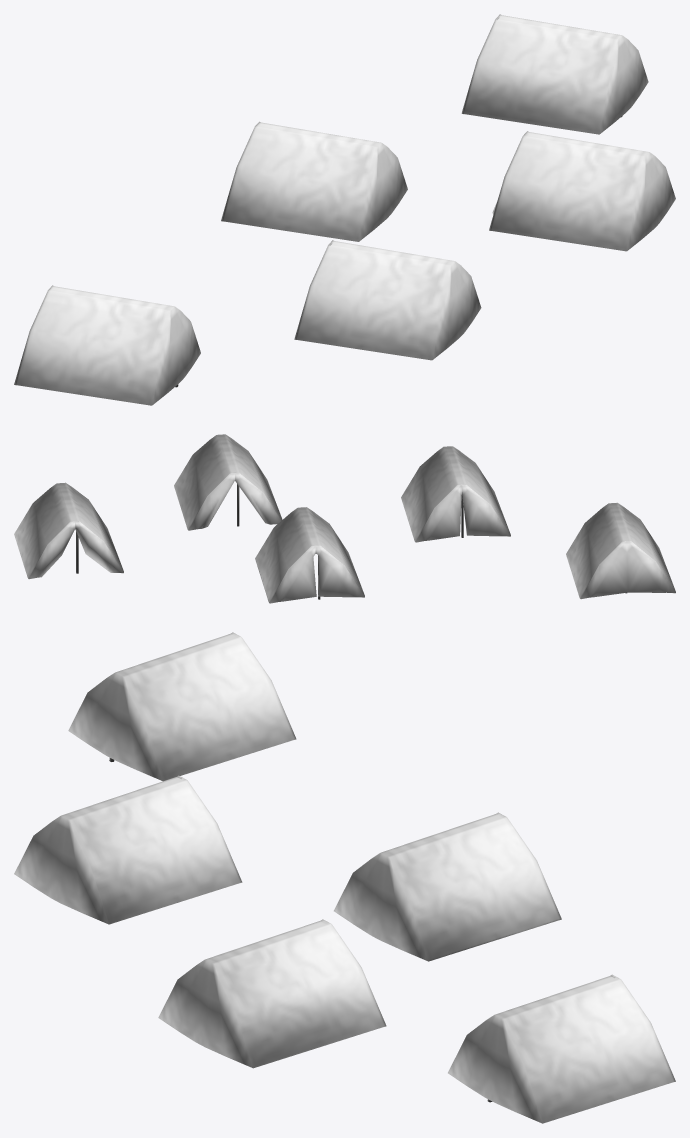
The model's file is Tents_White.obj.
3 renders of one model, top to bottom at view 1: azimuth 30°, elevation 25°; view 2: azimuth 150°, elevation 25°; view 3: azimuth 270°, elevation 25°, orthographic. The views are drawn at different scales.
Parts seen in each view (by area): view 1: Tent_Base.004_Material, Tent_Base.001_Material, Tent_Base.003_Material, Tent_Base_Material, Tent_Base.002_Material; view 2: Tent_Base.004_Material, Tent_Base.002_Material, Tent_Base.003_Material, Tent_Base_Material, Tent_Base.001_Material; view 3: Tent_Base.001_Material, Tent_Base_Material, Tent_Base.003_Material, Tent_Base.002_Material, Tent_Base.004_Material.
Boxes of the visible parts, x1=… form: Tent_Base.004_Material: x1=14, y1=285, x2=200, y2=405; Tent_Base.001_Material: x1=489, y1=131, x2=675, y2=251; Tent_Base.003_Material: x1=294, y1=240, x2=481, y2=360; Tent_Base_Material: x1=461, y1=14, x2=648, y2=134; Tent_Base.002_Material: x1=221, y1=121, x2=407, y2=241; Tent_Base.004_Material: x1=566, y1=502, x2=675, y2=599; Tent_Base.002_Material: x1=255, y1=507, x2=364, y2=603; Tent_Base.003_Material: x1=401, y1=446, x2=510, y2=542; Tent_Base_Material: x1=14, y1=482, x2=123, y2=579; Tent_Base.001_Material: x1=174, y1=434, x2=282, y2=530; Tent_Base.001_Material: x1=158, y1=919, x2=386, y2=1068; Tent_Base_Material: x1=448, y1=974, x2=675, y2=1123; Tent_Base.003_Material: x1=14, y1=775, x2=242, y2=924; Tent_Base.002_Material: x1=334, y1=812, x2=561, y2=961; Tent_Base.004_Material: x1=68, y1=632, x2=296, y2=781.
Bounding box in the file's own units: 13.56 × 1.26 × 8.67.
